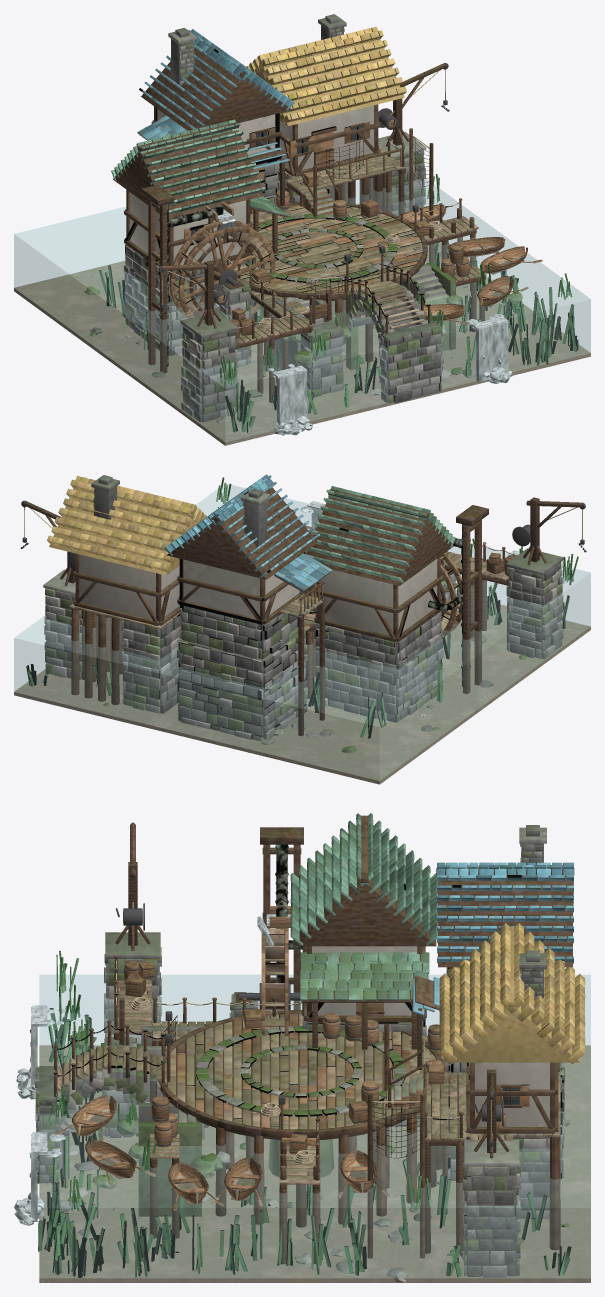
Rendered from Agua.glb.
3 renders of one model, top to bottom at view 1: azimuth 30°, elevation 25°; view 2: azimuth 150°, elevation 25°; view 3: azimuth 270°, elevation 25°, orthographic. The views are drawn at different scales.
Visible parts, largest first — view 1: Agua, Fondo_Arena, Plataforma_Circular, Casa_Paja_Techo, Molino_Techo, Puente_Arqueado, Casa_Azul_Techo, Molino, Algas, Casa_Paja, Grua_Izquierda_Pilar, Rueda_Hidraulica (+26 smaller); view 2: Agua, Fondo_Arena, Casa_Azul, Molino, Casa_Paja, Molino_Techo, Casa_Paja_Techo, Casa_Azul_Techo, Grua_Izquierda_Pilar, Torre_Canos, Casa_Azul_Balcon, Grua_Derecha_Pilar (+11 smaller); view 3: Agua, Fondo_Arena, Plataforma_Circular, Casa_Paja_Techo, Molino_Techo, Algas, Casa_Azul_Techo, Casa_Paja, Puente_Arqueado, Grua_Derecha_Pilar, Molino_Alero, Casa_Paja_Galeria (+28 smaller).
Part boxes in pixels (x1,y1,x2,y2): Agua: [14, 178, 590, 441]; Fondo_Arena: [14, 203, 590, 445]; Plataforma_Circular: [234, 202, 427, 362]; Casa_Paja_Techo: [246, 26, 406, 125]; Molino_Techo: [111, 119, 265, 218]; Puente_Arqueado: [344, 265, 443, 403]; Casa_Azul_Techo: [139, 29, 294, 130]; Molino: [124, 189, 252, 355]; Algas: [99, 240, 578, 432]; Casa_Paja: [277, 104, 382, 210]; Grua_Izquierda_Pilar: [180, 312, 238, 422]; Rueda_Hidraulica: [169, 220, 275, 318]; Agua: [14, 484, 590, 780]; Fondo_Arena: [14, 593, 590, 784]; Casa_Azul: [177, 552, 307, 741]; Molino: [314, 556, 443, 722]; Casa_Paja: [69, 553, 181, 713]; Molino_Techo: [306, 486, 455, 585]; Casa_Paja_Techo: [47, 476, 206, 575]; Casa_Azul_Techo: [164, 474, 320, 579]; Grua_Izquierda_Pilar: [506, 548, 563, 659]; Torre_Canos: [428, 505, 488, 693]; Casa_Azul_Balcon: [274, 553, 332, 736]; Grua_Derecha_Pilar: [43, 569, 96, 679]; Agua: [39, 975, 590, 1278]; Fondo_Arena: [39, 1045, 590, 1282]; Plataforma_Circular: [158, 1010, 446, 1227]; Casa_Paja_Techo: [439, 923, 585, 1064]; Molino_Techo: [290, 813, 437, 946]; Algas: [38, 1006, 571, 1277]; Casa_Azul_Techo: [436, 862, 574, 967]; Casa_Paja: [464, 1062, 560, 1250]; Puente_Arqueado: [35, 1020, 165, 1183]; Grua_Derecha_Pilar: [463, 1139, 520, 1277]; Molino_Alero: [300, 952, 429, 1049]; Casa_Paja_Galeria: [386, 1049, 466, 1253].
Bounding box in the file's own units: 23.4 × 12.75 × 20.91.
Materials: 164 (153 with a texture image).
